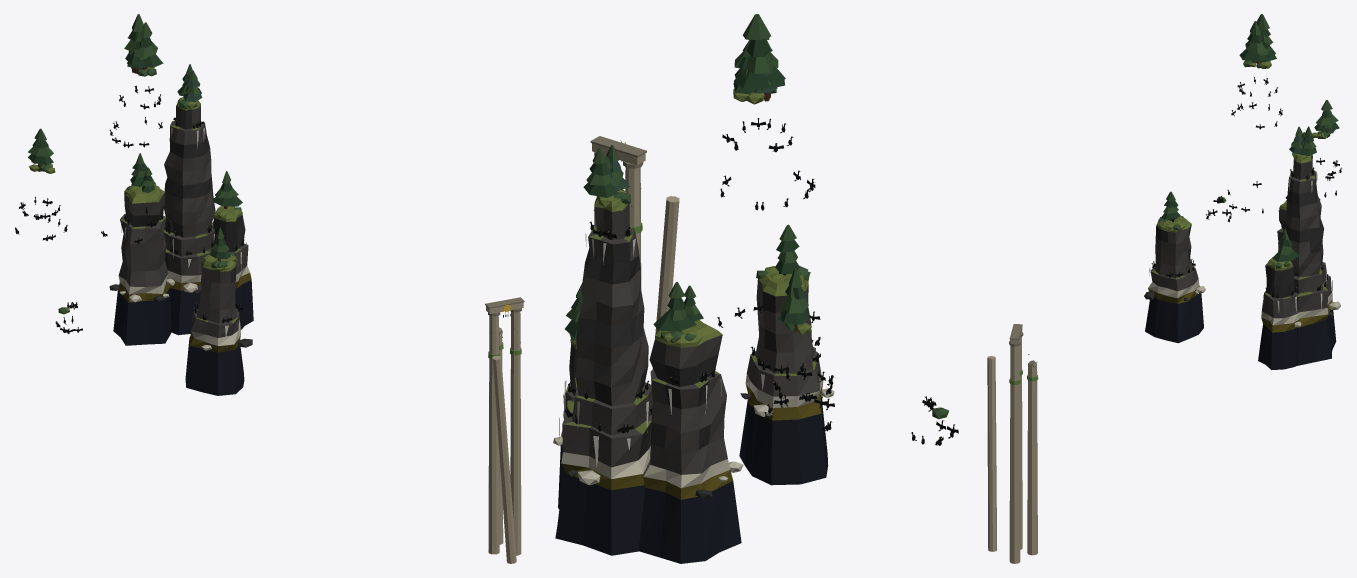
File: chunk_2_1.glb
The picture shows the model from 3 angles, left to right: view 1: azimuth 30°, elevation 25°; view 2: azimuth 150°, elevation 25°; view 3: azimuth 270°, elevation 25°; orthographic projection. The views are drawn at different scales.
Parts seen in each view (by area): view 1: chunk_2_1; view 2: chunk_2_1; view 3: chunk_2_1.
Boxes of the visible parts, x1,y1,x2,y2 form: chunk_2_1: (15,14,524,563); chunk_2_1: (553,14,958,563); chunk_2_1: (987,14,1342,563).
Bounding box in the file's own units: 47.94 × 64.92 × 47.17.
